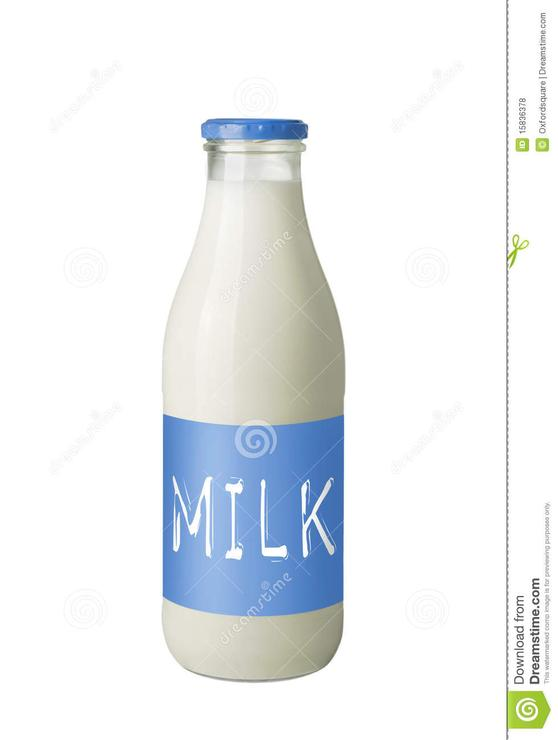milk: (156, 102, 354, 683)
